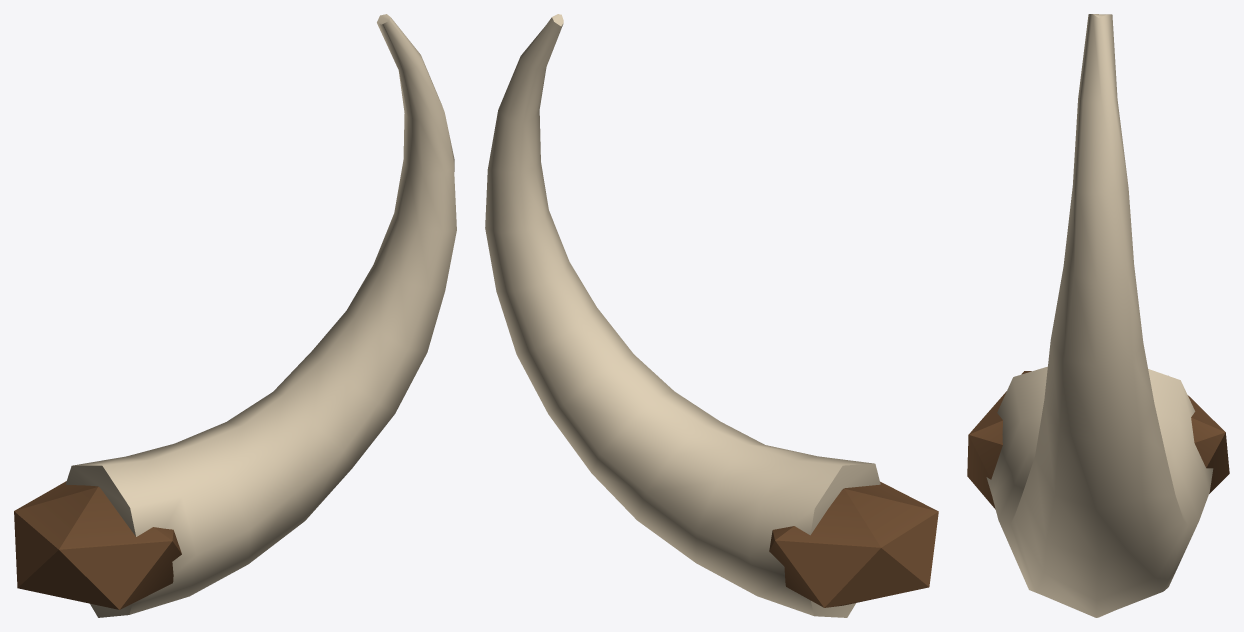
File: find_tusk.glb
The picture shows the model from 3 angles, left to right: view 1: azimuth 30°, elevation 25°; view 2: azimuth 150°, elevation 25°; view 3: azimuth 270°, elevation 25°; orthographic projection. The views are drawn at different scales.
Visible parts, largest first — view 1: Tusk; view 2: Tusk; view 3: Tusk.
Part boxes in pixels (x1=…): Tusk: x1=14, y1=14, x2=456, y2=617; Tusk: x1=485, y1=14, x2=938, y2=617; Tusk: x1=967, y1=14, x2=1229, y2=617.
Size of the model in its own units: 0.3312 by 0.3835 by 0.1222.
